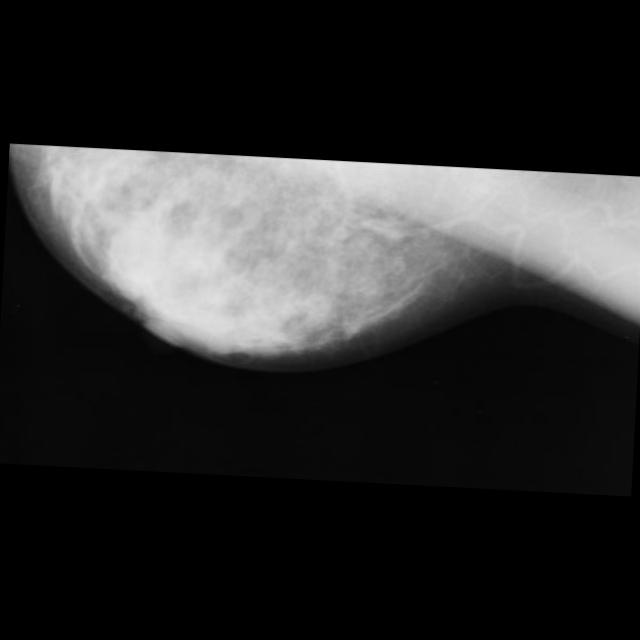ARCH: (371, 210, 414, 253)
